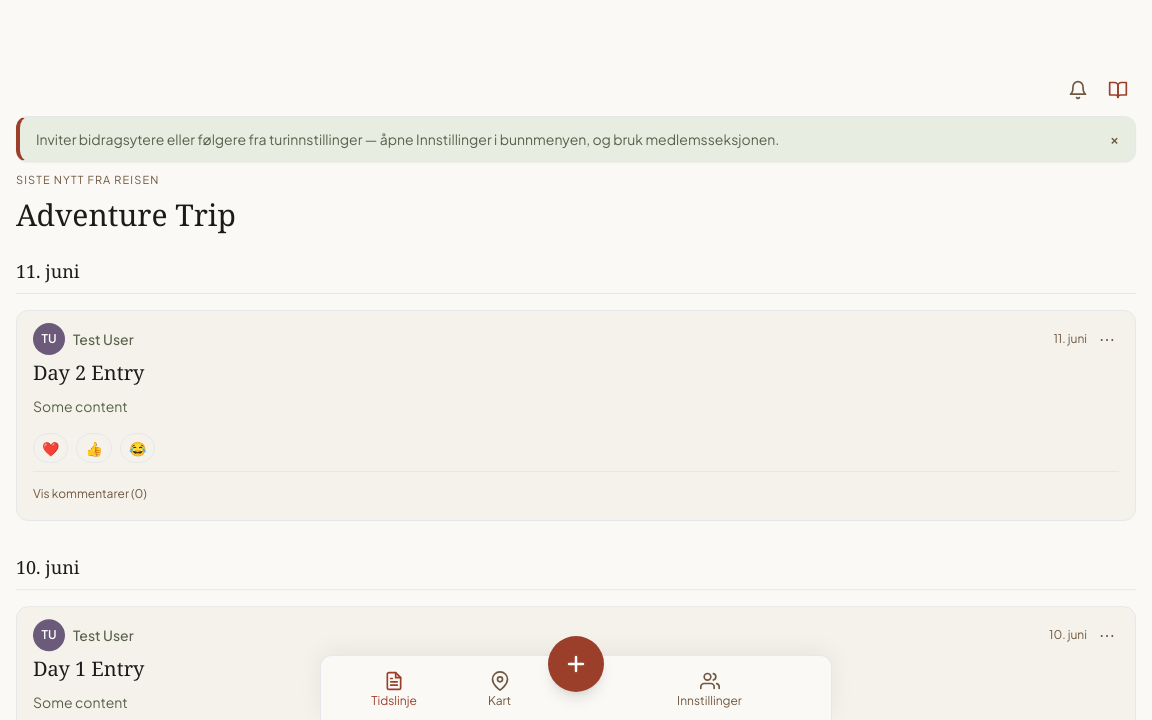
TimelineScreen › shows day headers by default and hides them when Story Mode is toggled off
Check: the heading "Day 1 Entry" is shown, box [33,655,144,682]
Check: the number of elements with test id "day-header" is 2, box [16,241,1136,294]; [16,537,1136,590]
Note: Toggle Story Mode off
Click the button with test id "story-mode-toggle".
click(1118, 90)  # box [1100,72,1136,108]
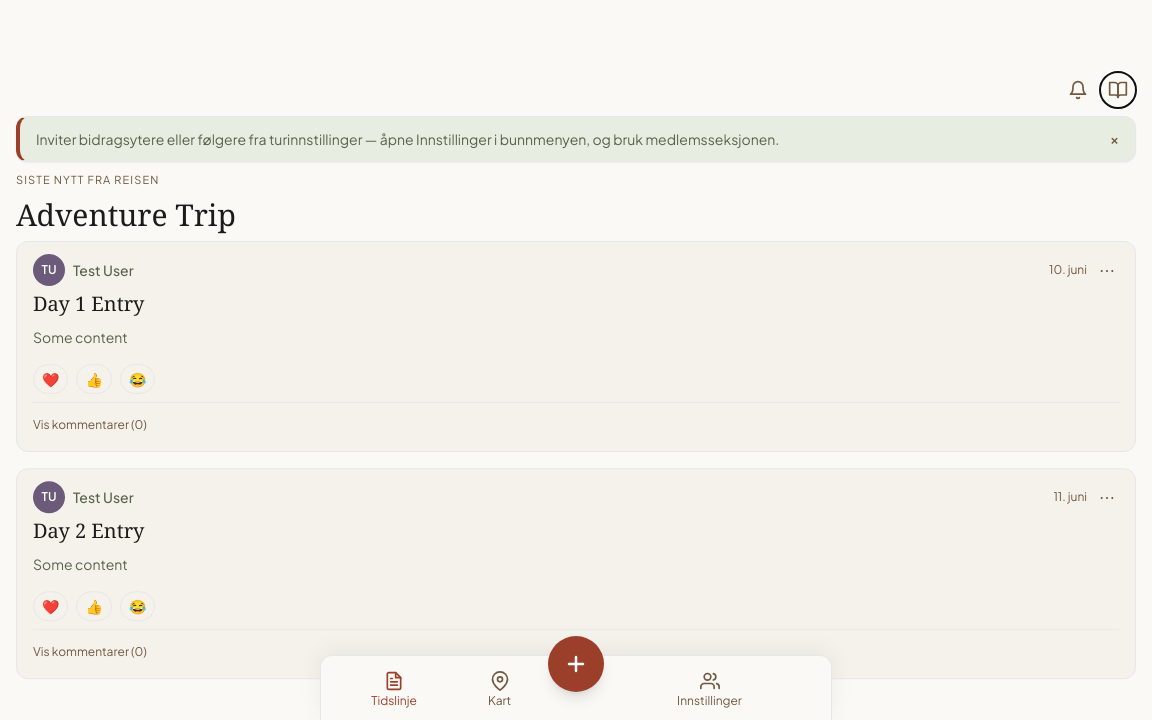
Check: no elements with test id "day-header" are shown
